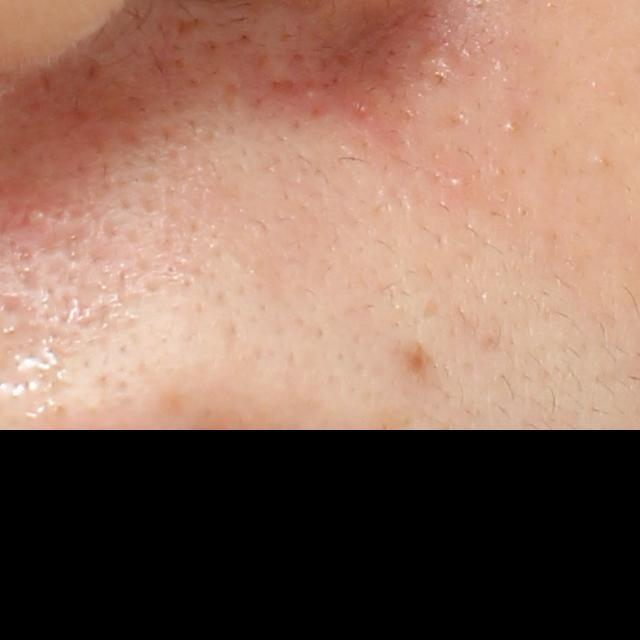comedo: (446, 168, 475, 196), (495, 114, 522, 143)
nevus: (389, 337, 444, 383)
